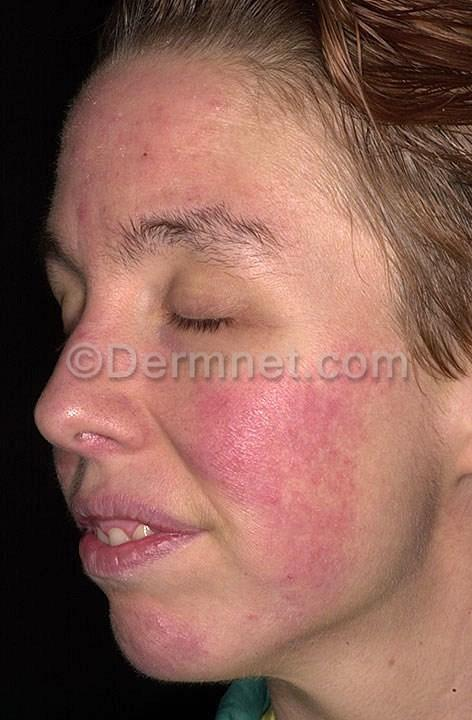Acne: (131, 608, 220, 665), (201, 393, 256, 468)
